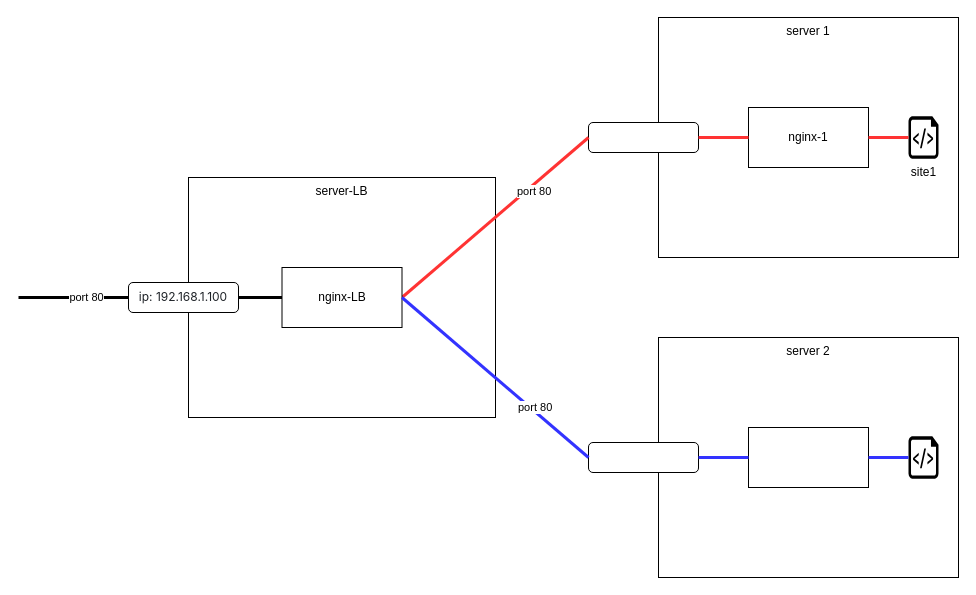
This 976x595 diagram has some shape labels left out. The centre of each missing label's shape, as x and y in pixels:
ip: 192.168.1.11: point 643,137
ip: 192.168.1.12: point 643,457
nginx-2: point 808,457
site2: point 923,457
